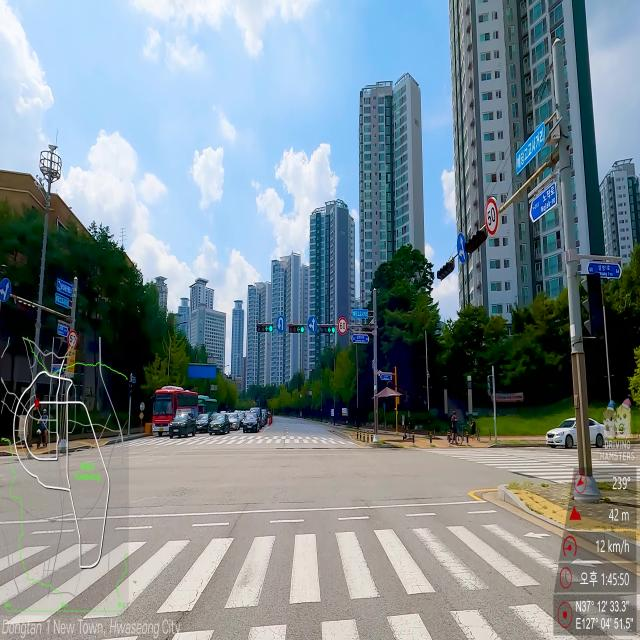Green Light: (269, 326, 273, 332), (332, 327, 335, 333), (301, 327, 304, 332)
